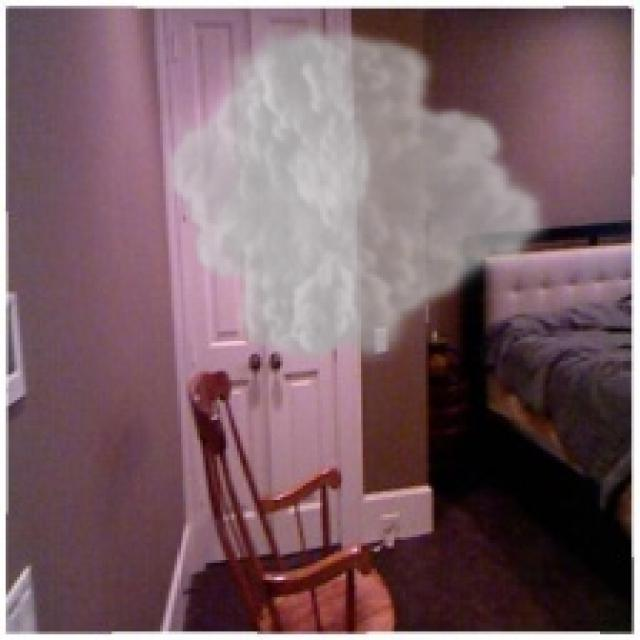smoke: (163, 17, 551, 372)
